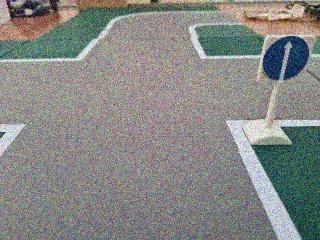straight: (259, 31, 310, 86)
